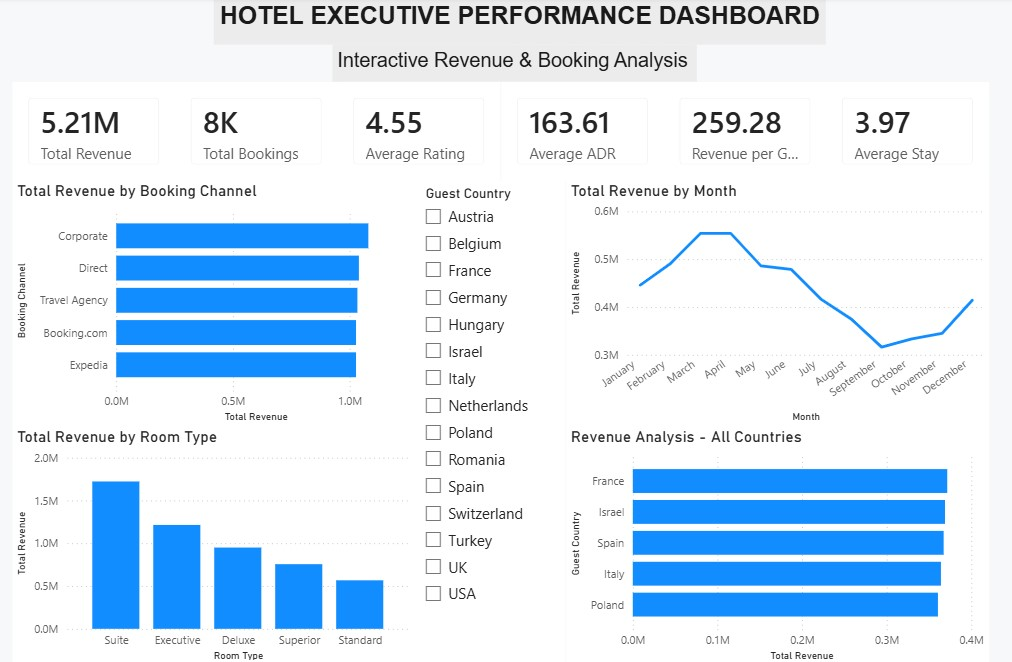

The dashboard page shown, as its layout file describes it:
{"tool":"powerbi","page":{"name":"Hotel Executive Performance Dashboard","canvas":[1280,720],"ordinal":0},"visuals":[{"type":"cardVisual","fields":{"Data":["Bookings.Total Revenue"]},"box":[126.5,91.5,175,106.4],"z":0},{"type":"cardVisual","fields":{"Data":["Bookings.Average Rating"]},"box":[476.6,91.5,175,106.4],"z":2},{"type":"cardVisual","fields":{"Data":["Bookings.Total Bookings"]},"box":[301.6,91.5,175,106.4],"z":3},{"type":"lineChart","fields":{"Category":["Bookings.Month"],"Y":["Bookings.Total Revenue"]},"box":[721.6,197.9,455,265.2],"z":4},{"type":"clusteredBarChart","fields":{"Category":["Bookings.Booking Channel"],"Y":["Bookings.Total Revenue"]},"box":[126.5,197.9,432.1,265.2],"z":5},{"type":"clusteredColumnChart","fields":{"Category":["Bookings.Room Type"],"Y":["Bookings.Total Revenue"]},"box":[126.5,463.1,432.1,257.1],"z":6},{"type":"slicer","fields":{"Values":["Bookings.Guest Country"]},"box":[558.7,197.9,162.9,522.3],"z":7},{"type":"cardVisual","fields":{"Data":["Bookings.Average ADR"]},"box":[651.6,91.5,175,106.4],"z":8},{"type":"cardVisual","fields":{"Data":["Bookings.Revenue per Guest"]},"box":[826.6,91.5,175,106.4],"z":10},{"type":"cardVisual","fields":{"Data":["Bookings.Average Stay"]},"box":[1001.6,91.5,175,106.4],"z":11},{"type":"clusteredBarChart","fields":{"Category":["Bookings.Guest Country"],"Y":["Bookings.Total Revenue"]},"box":[721.6,463.1,455,257.1],"z":12},{"type":"textbox","box":[343.3,0,658.3,51.2],"z":14},{"type":"textbox","box":[471.2,51.2,391.8,40.4],"z":15}]}

Visuals, with their boxes on the page's 1280x720 design canvas (x1, y1, x2, y2). These are canvas units, not pixel positions in the 1012x662 screenshot, which may show the page scaled, cropped or inside an application window:
cardVisual - Bookings.Total Revenue: BBox(126, 92, 302, 198)
cardVisual - Bookings.Average Rating: BBox(477, 92, 652, 198)
cardVisual - Bookings.Total Bookings: BBox(302, 92, 477, 198)
lineChart - Bookings.Month x Bookings.Total Revenue: BBox(722, 198, 1177, 463)
clusteredBarChart - Bookings.Booking Channel x Bookings.Total Revenue: BBox(126, 198, 559, 463)
clusteredColumnChart - Bookings.Room Type x Bookings.Total Revenue: BBox(126, 463, 559, 720)
slicer - Bookings.Guest Country: BBox(559, 198, 722, 720)
cardVisual - Bookings.Average ADR: BBox(652, 92, 827, 198)
cardVisual - Bookings.Revenue per Guest: BBox(827, 92, 1002, 198)
cardVisual - Bookings.Average Stay: BBox(1002, 92, 1177, 198)
clusteredBarChart - Bookings.Guest Country x Bookings.Total Revenue: BBox(722, 463, 1177, 720)
textbox: BBox(343, 0, 1002, 51)
textbox: BBox(471, 51, 863, 92)
